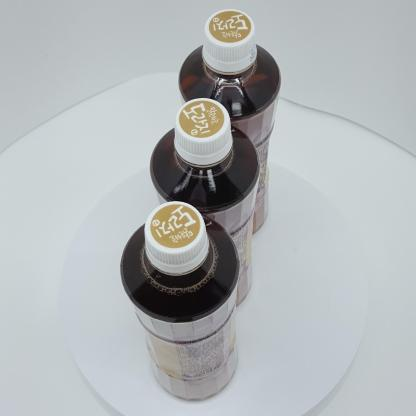------------500ML: (119, 201, 241, 401), (150, 97, 260, 309)
